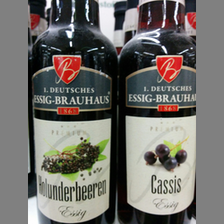vinegar: (28, 1, 119, 224), (119, 1, 199, 224)
